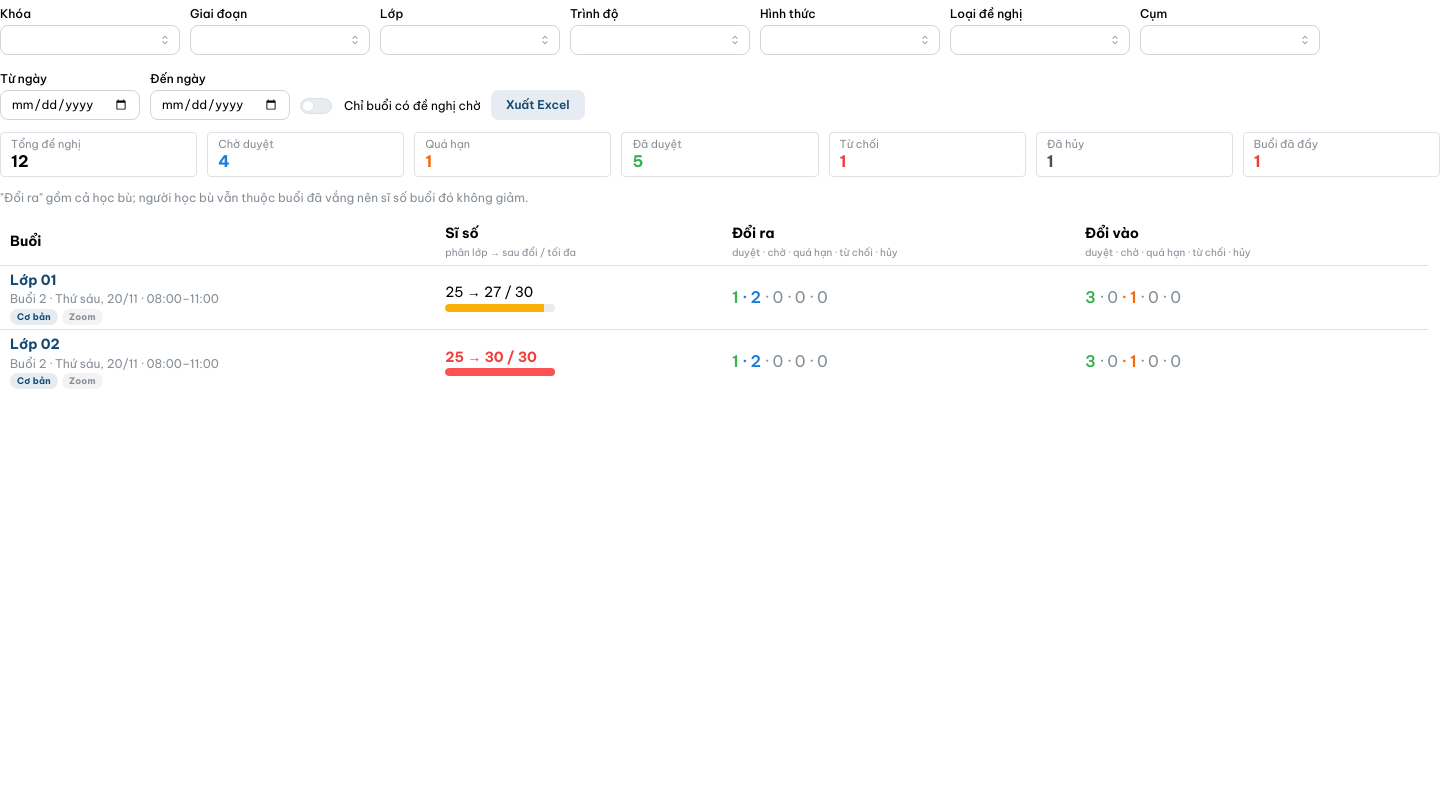
Test case: Tab Thống kê đổi buổi › bấm dòng mở chi tiết Đổi ra / Đổi vào với nhãn trạng thái như tab Đã xử lý
Click the button with aria-label "Xem chi tiết Lớp 01": {"x": 33, "y": 280} [10,271,57,289]
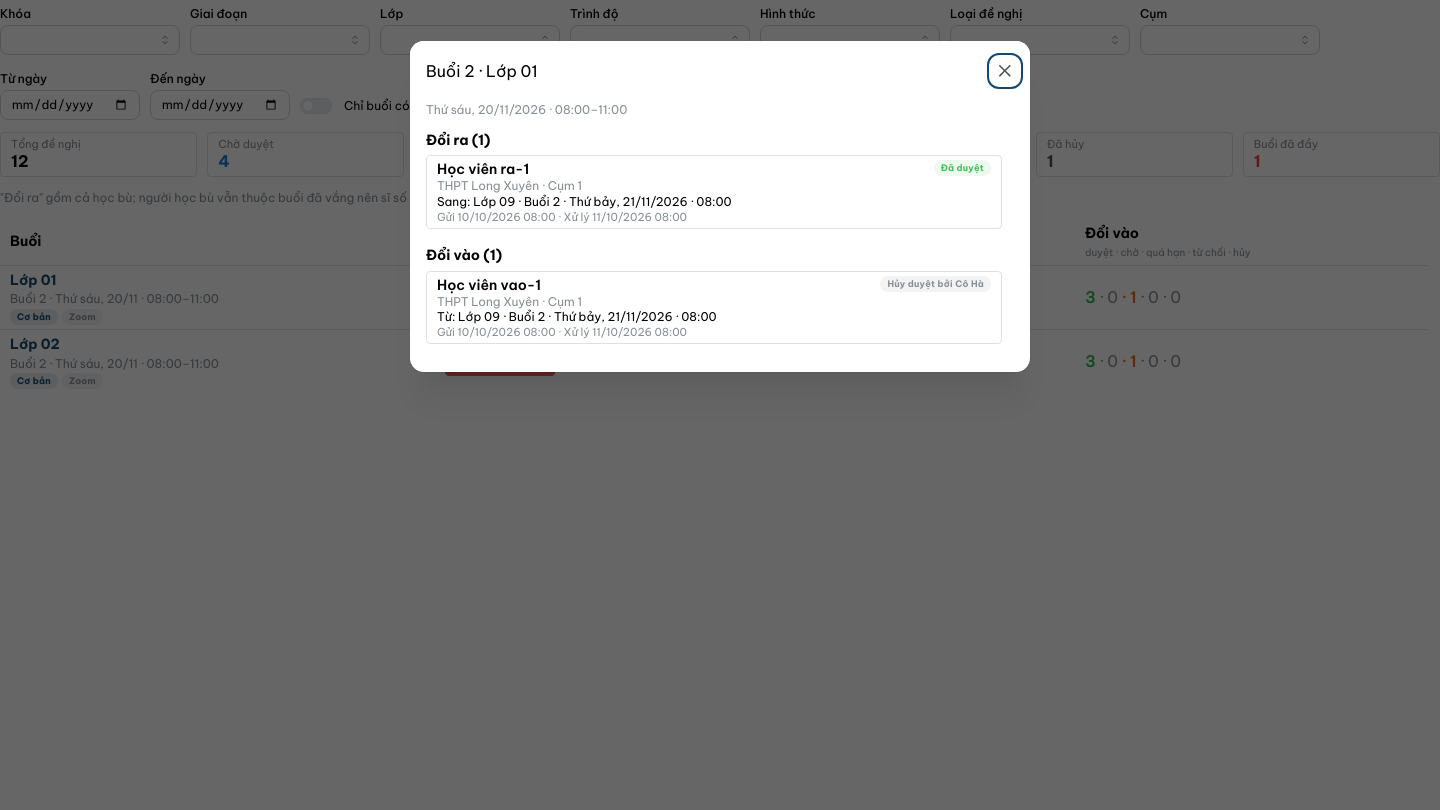
Now the text "Học viên ra-1" is shown, box [437,160,529,178]
Now the element "Đổi ra" shows "THPT Long Xuyên · Cụm 1", box [426,129,1002,228]
Now the element "Đổi ra" shows "Lớp 09 · Buổi 2", box [426,129,1002,228]
